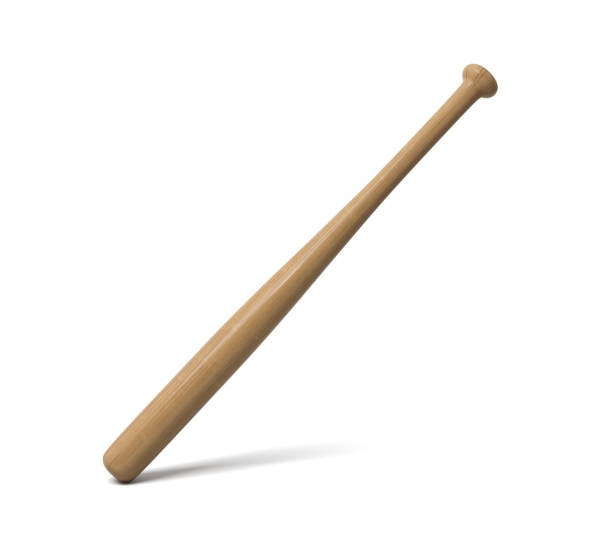bita: (101, 62, 499, 496)
